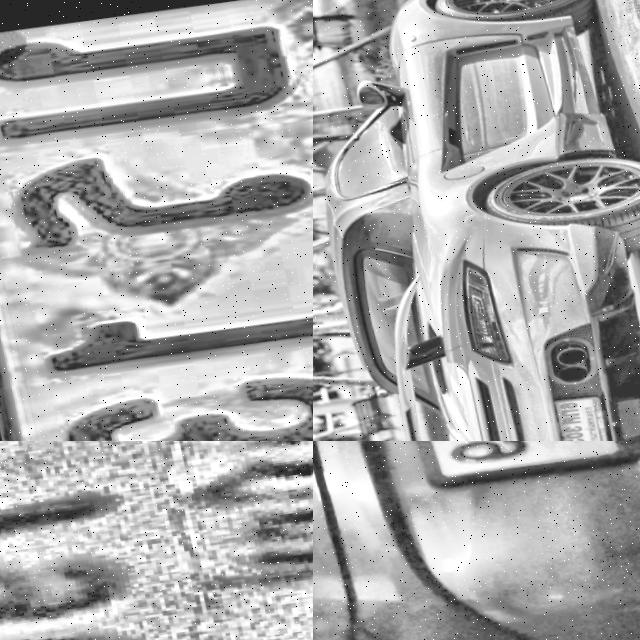license-plate: (0, 0, 313, 441), (0, 441, 313, 640), (540, 393, 606, 441)
